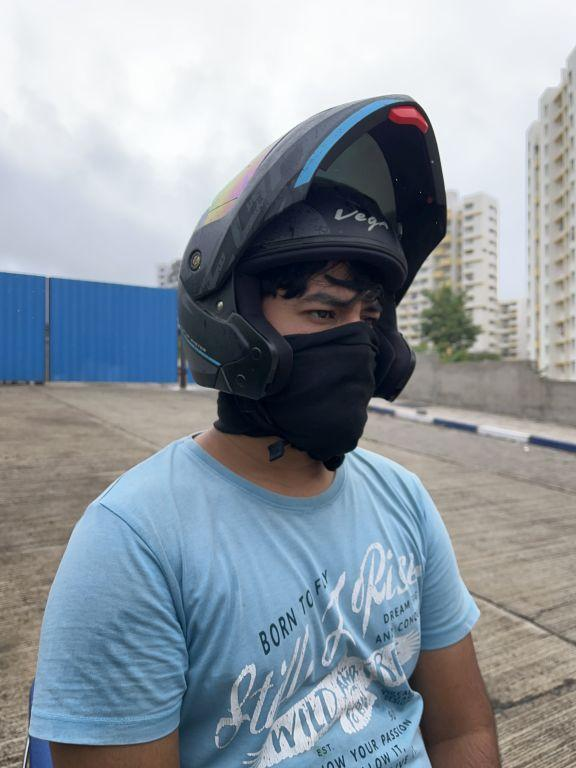helmet: (170, 87, 453, 477)
